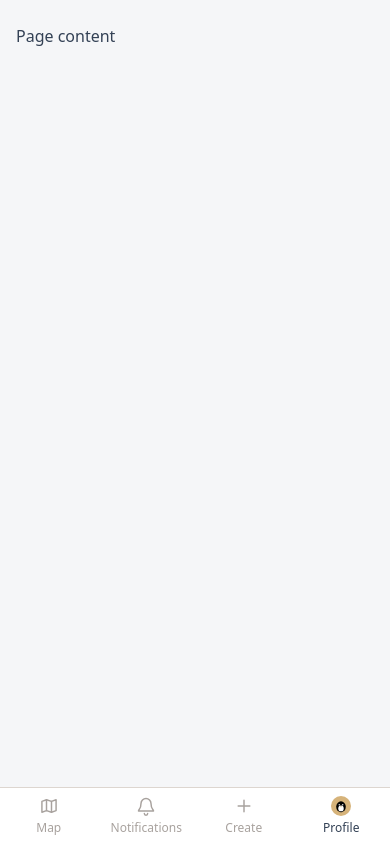
Scenario: ContentArea › the phone create tab opens pebble or collection
Click the button "Create".
click(244, 816)  # box left=195, top=788, right=292, bottom=843
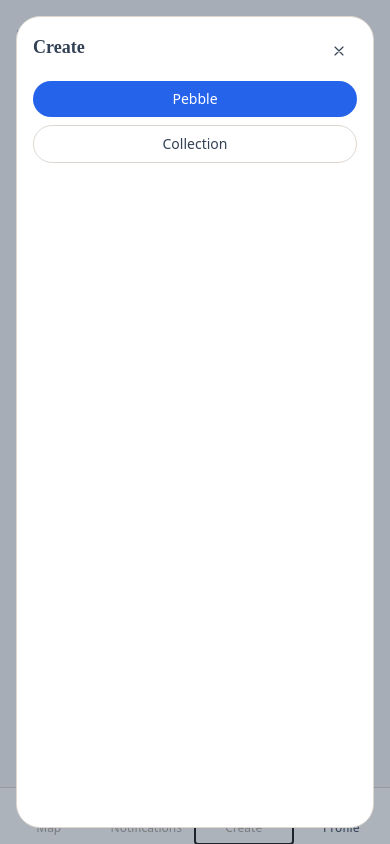
Click the button "Collection".
click(195, 144)  # box left=33, top=125, right=357, bottom=163
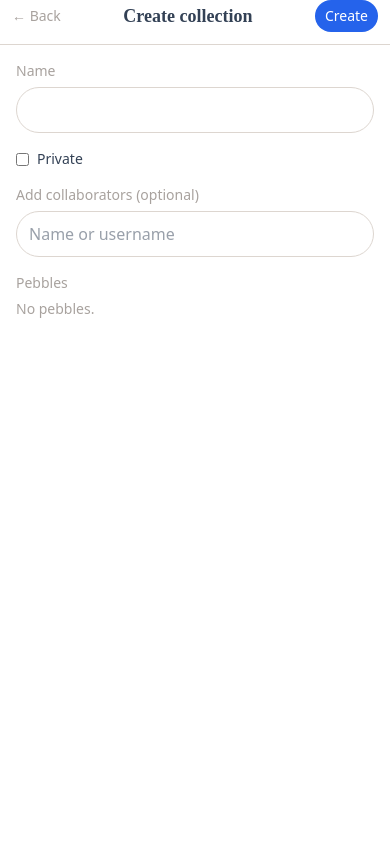
Check: the form with test id "create-collection-form" is shown
Check: the checkbox labelled "Private" is shown, box left=16, top=152, right=29, bottom=166
